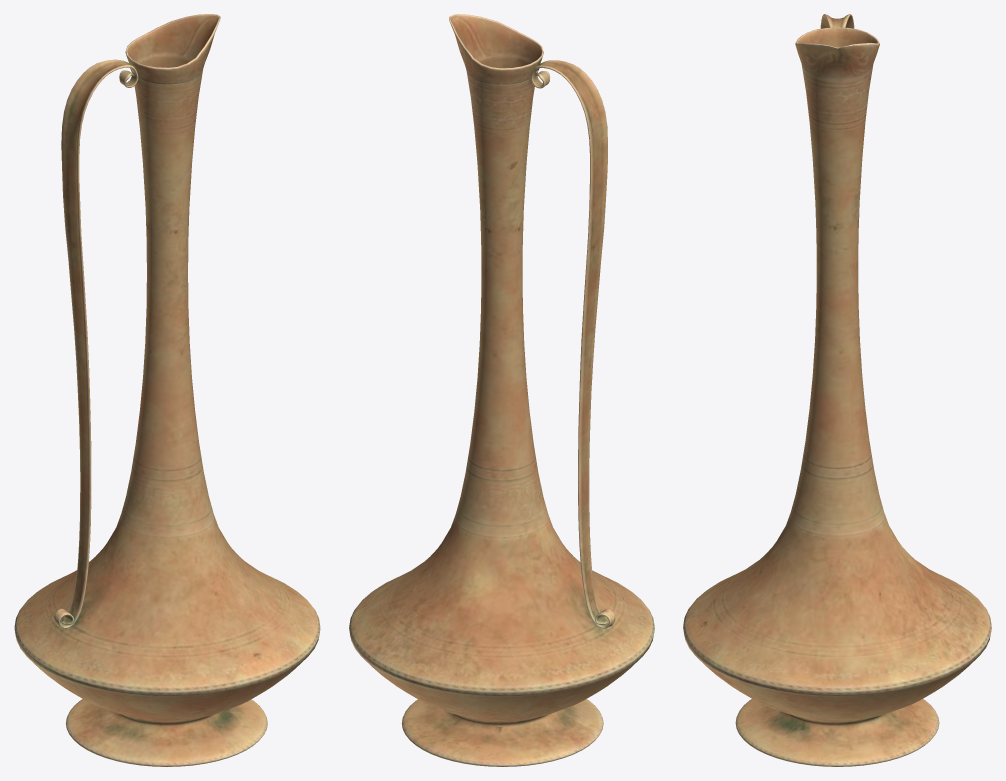
File: brass_vase_02.glb
3 views of the same model, side by side, from view 1: azimuth 30°, elevation 25°; view 2: azimuth 150°, elevation 25°; view 3: azimuth 270°, elevation 25° (orthographic).
Visible parts, largest first — view 1: brass_vase_02; view 2: brass_vase_02; view 3: brass_vase_02.
Part boxes in pixels (x1,y1,x2,y2): brass_vase_02: (14,14,320,766); brass_vase_02: (349,14,654,766); brass_vase_02: (683,14,991,766).
Size of the model in its own units: 0.2103 by 0.5286 by 0.2103.
1 material, 1 textured.
